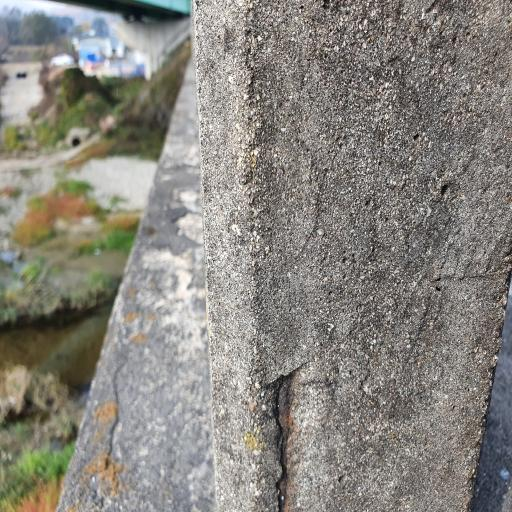exposed_rebar: (277, 373, 294, 509)
